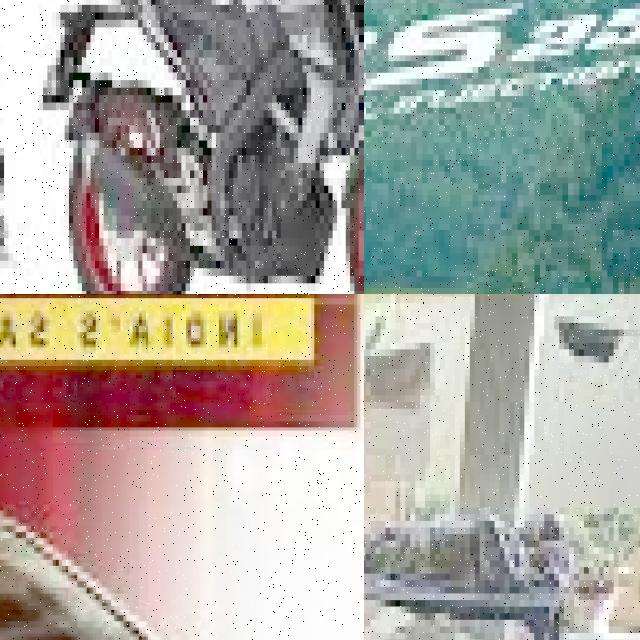bike: (60, 0, 364, 294), (0, 27, 64, 294)
car: (364, 323, 640, 640), (0, 400, 364, 640)
